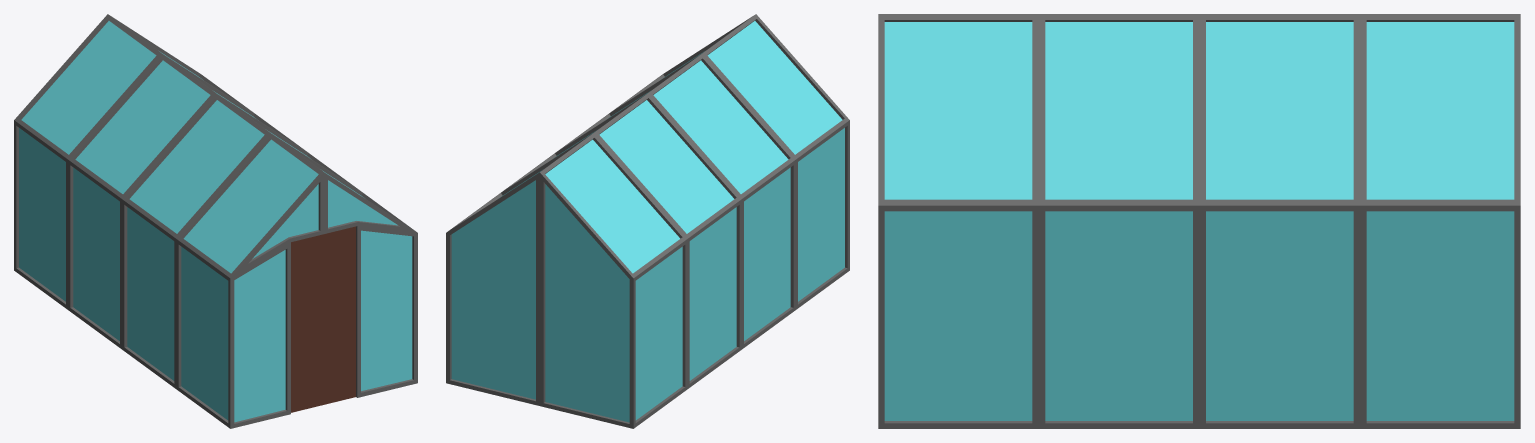
File: Farmi_Kasvihuone.fbx
3 views of the same model, side by side, from view 1: azimuth 30°, elevation 25°; view 2: azimuth 150°, elevation 25°; view 3: azimuth 270°, elevation 25° (orthographic). The views are drawn at different scales.
Visible parts, largest first — view 1: Kasvihuone; view 2: Kasvihuone; view 3: Kasvihuone.
Boxes of the visible parts, x1,y1,x2,y2 form: Kasvihuone: (14,14,417,428); Kasvihuone: (446,14,849,428); Kasvihuone: (878,14,1520,428).
Size of the model in its own units: 200 by 238 by 400.
